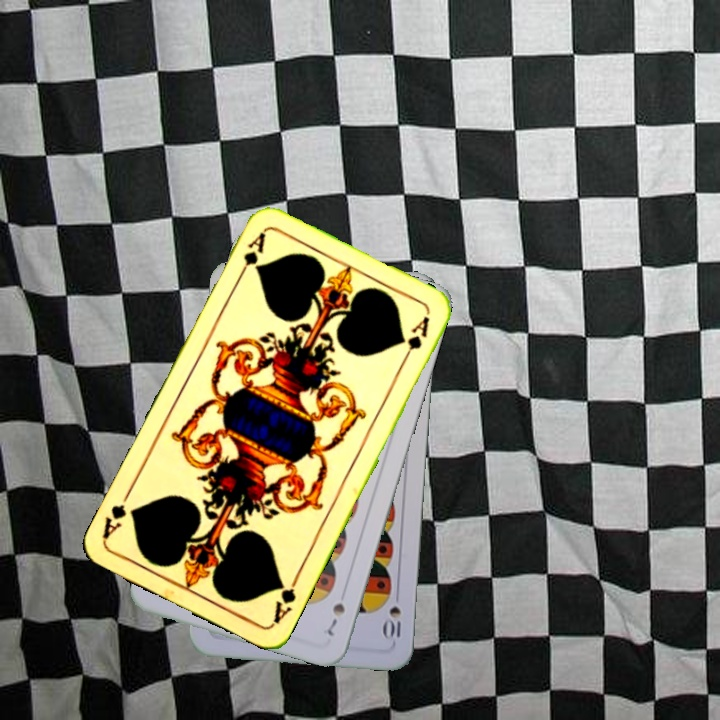GA: (269, 570, 302, 627), (234, 227, 268, 282)
S10: (381, 586, 403, 641)
S7: (323, 599, 348, 639)
